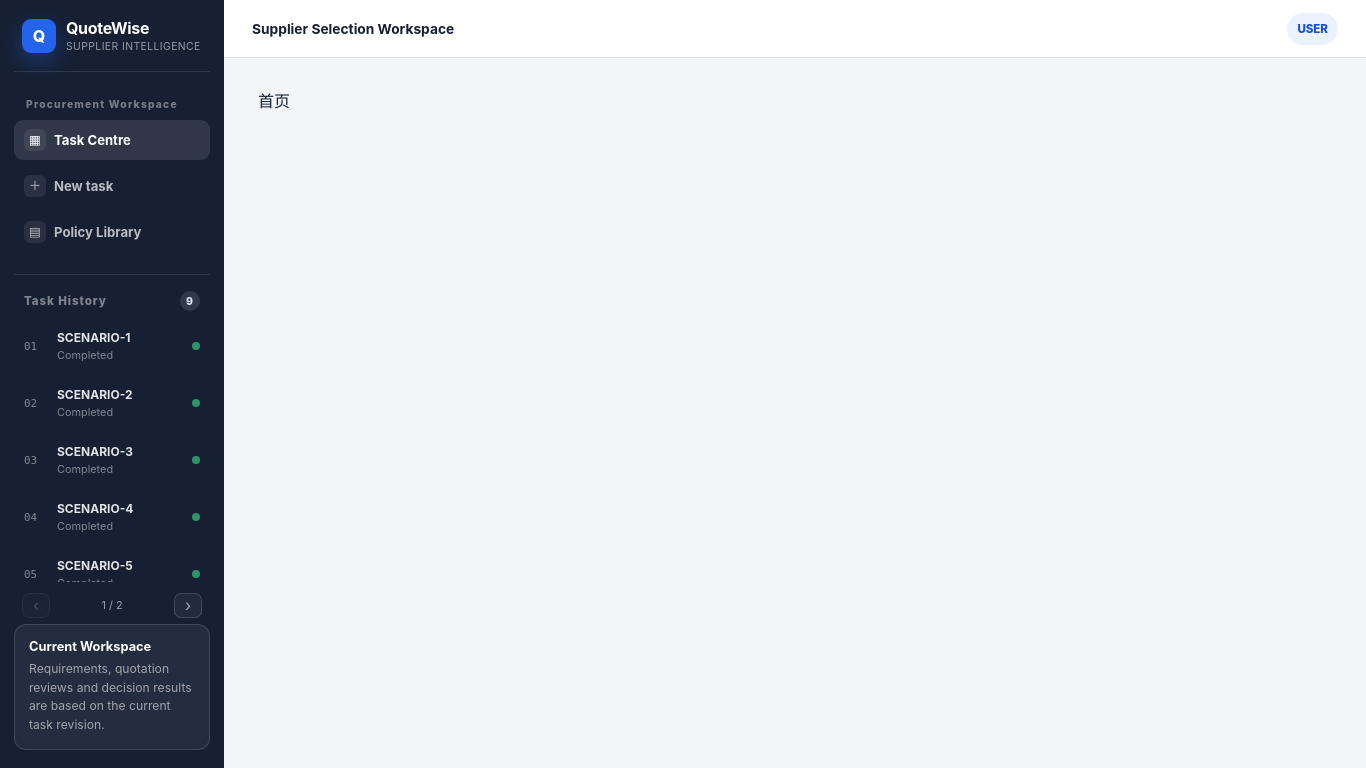
Test case: AppShell Task History分页 › Per page请求八条并使用 offset 翻页
The image size is (1366, 768).
Check: the text "SCENARIO-1" is shown, box [57, 330, 130, 345]
Check: the text "SCENARIO-9" is not shown
Click the button named "Next task-history page" at point(188, 605), box [174, 593, 202, 618]
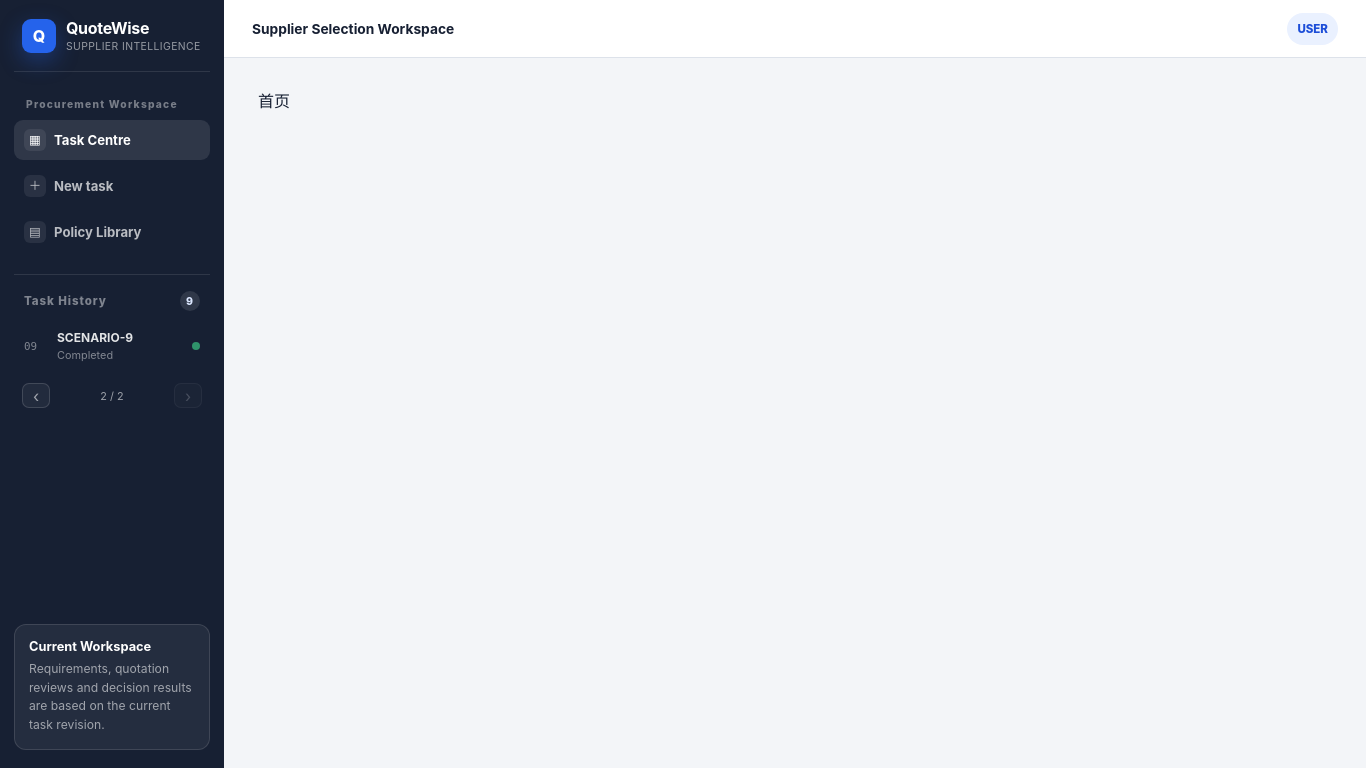
Check: the text "SCENARIO-9" is shown, box [57, 330, 133, 345]
Check: the text "09" is shown, box [24, 340, 37, 352]
